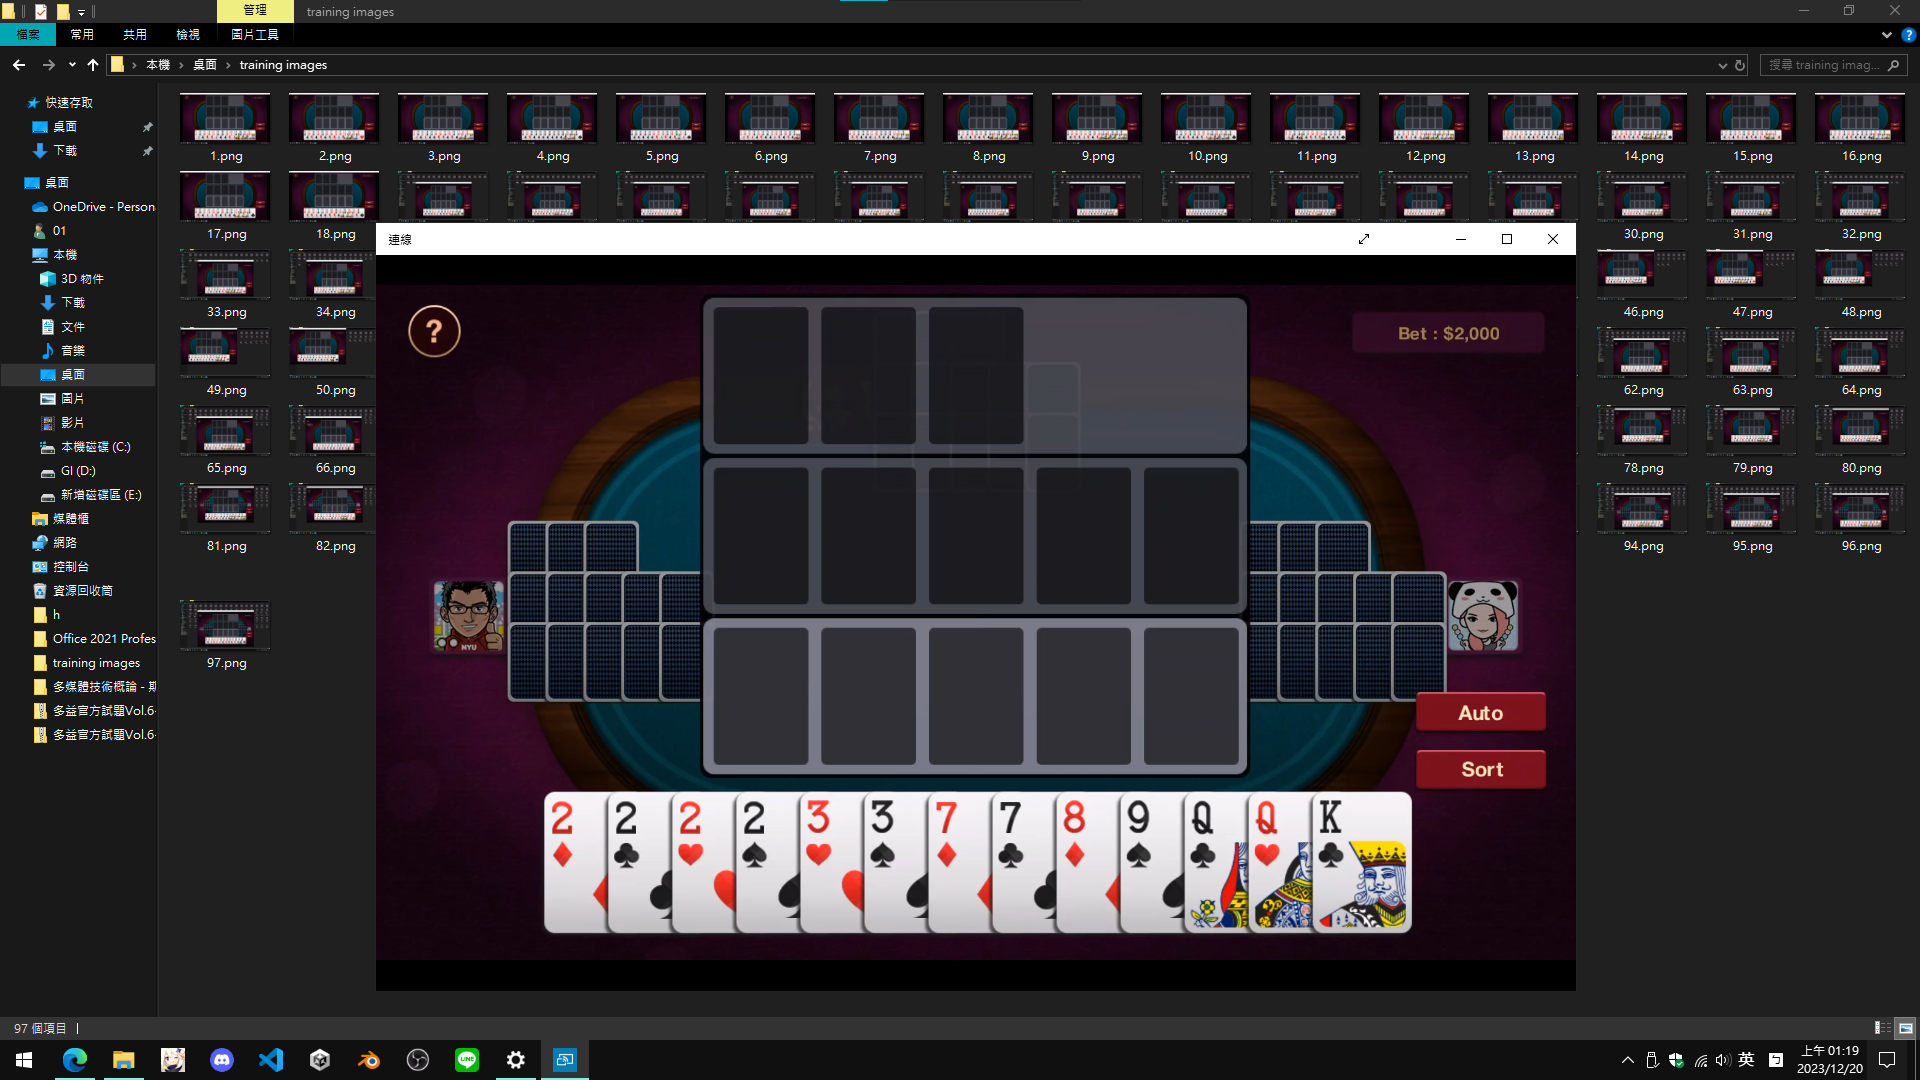2C: (612, 797, 641, 873)
2D: (548, 797, 577, 873)
2H: (676, 800, 707, 871)
2S: (740, 799, 771, 872)
3H: (803, 796, 835, 869)
3S: (868, 799, 897, 872)
7C: (993, 797, 1027, 872)
7D: (935, 799, 961, 872)
8D: (1060, 799, 1087, 872)
9S: (1124, 800, 1155, 872)
KC: (1317, 797, 1348, 871)
QC: (1189, 799, 1219, 873)
QH: (1252, 799, 1281, 871)
